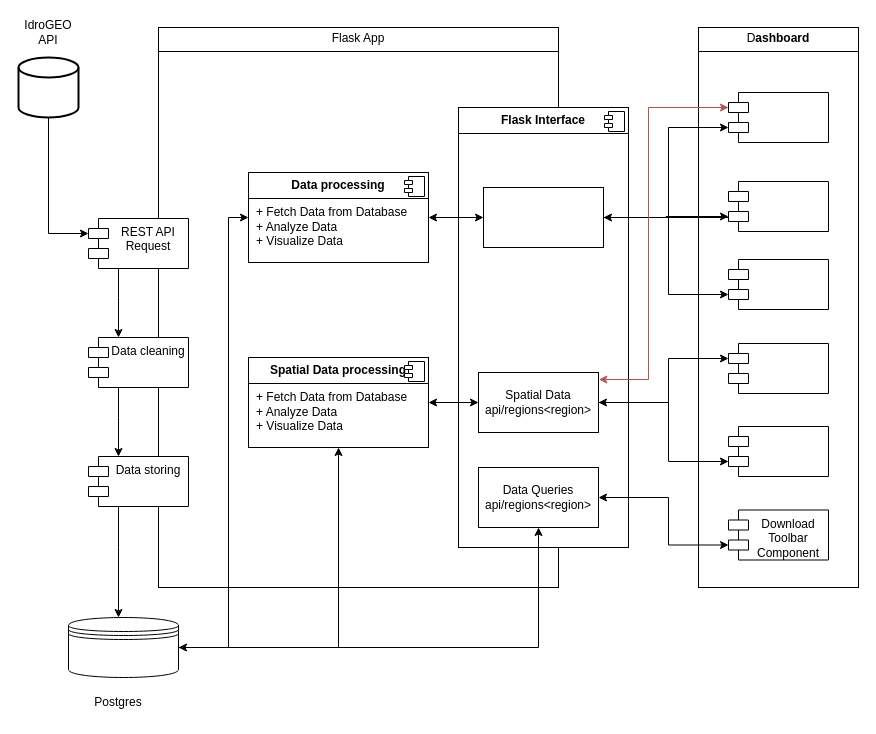
Image size: 876x734. Some labels were removed from this diagram. The shapes that lost their labels are listed below. From the top down, each one's centre as x and y in pixels, then its label:
At point (778, 117): "Selector Component".
At point (543, 217): "Data api/regions<region>".
At point (778, 206): "Information Panel Component".
At point (778, 284): "Table Component".
At point (778, 368): "Map Component".
At point (778, 451): "Layer Management Component".
